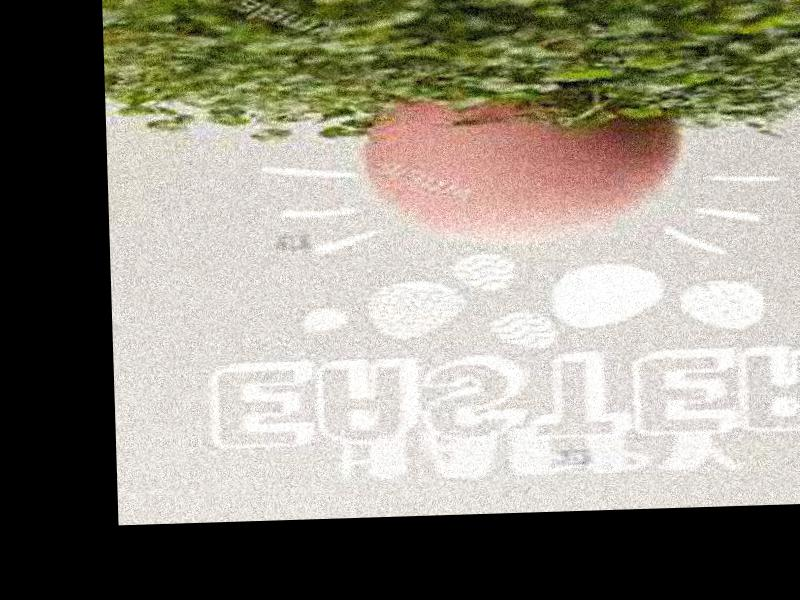Eggs: (368, 92, 688, 245)
